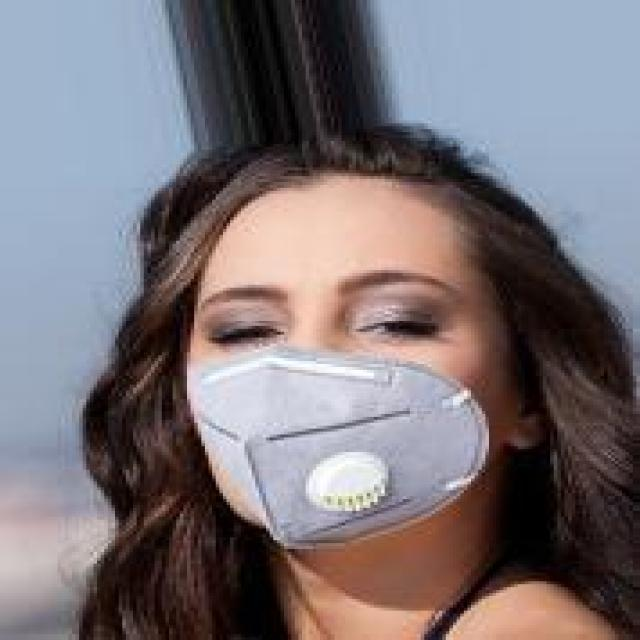mask: (144, 150, 572, 555)
